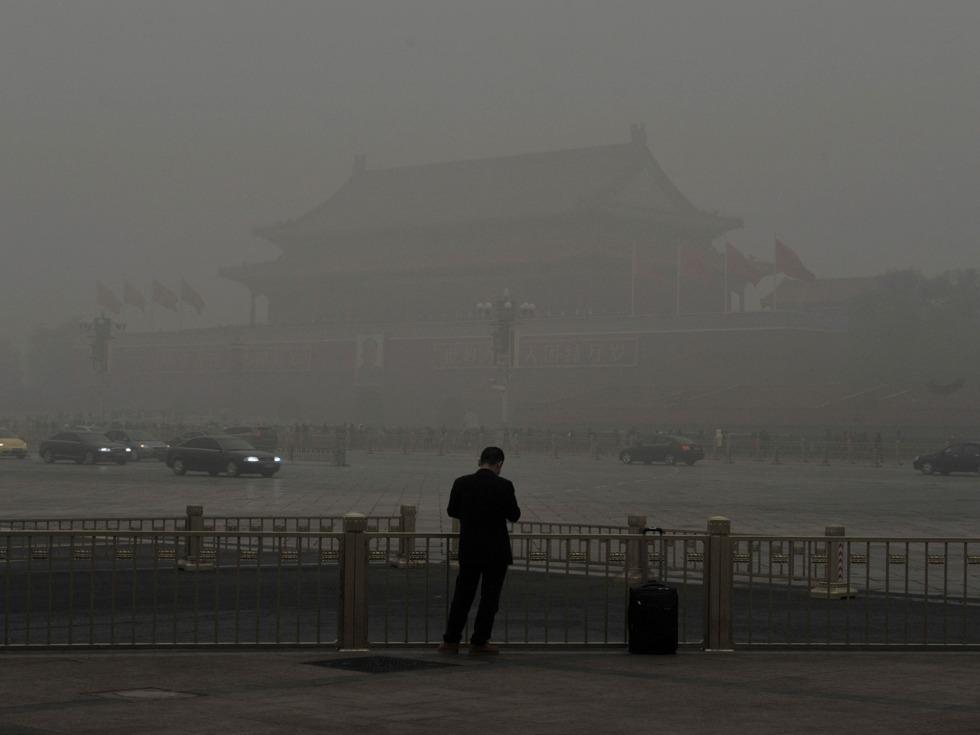car: (165, 435, 281, 477), (38, 430, 133, 465), (618, 435, 705, 466), (97, 430, 171, 462), (912, 442, 980, 476), (1, 427, 28, 459)
person: (437, 446, 521, 658)
